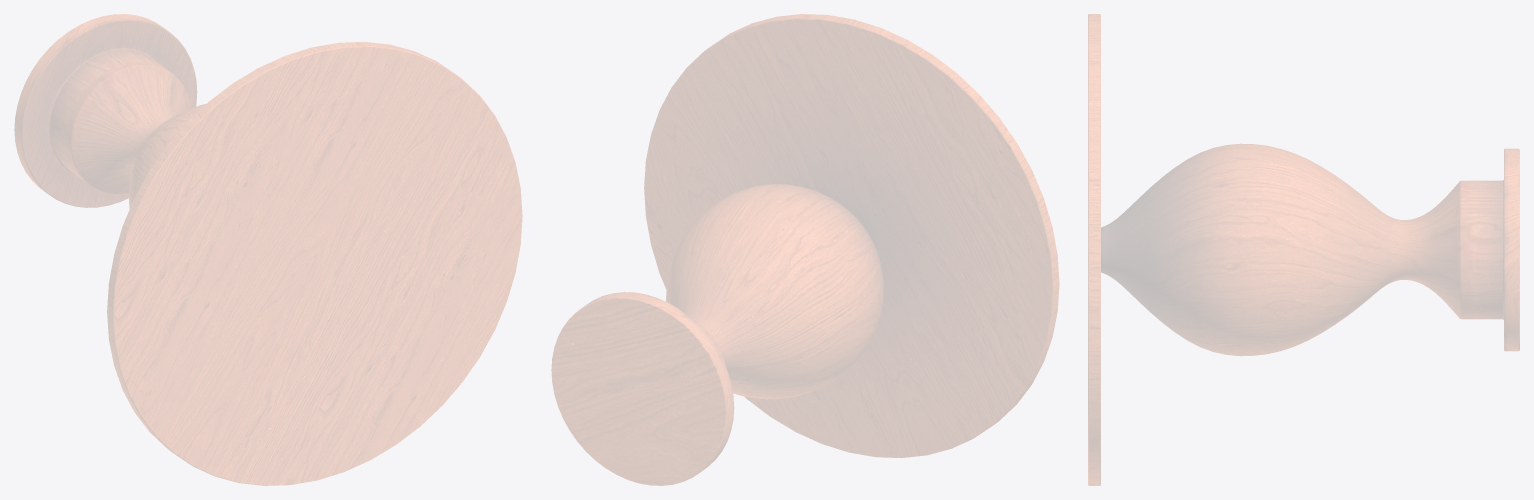
File: 10248_Side_Table_v1_L3.123c0ff7e568-b05c-4b96-b5f3-0dbd5bce166b.glb
3 views of the same model, side by side, from view 1: azimuth 30°, elevation 25°; view 2: azimuth 150°, elevation 25°; view 3: azimuth 270°, elevation 25° (orthographic).
Visible parts, largest first — view 1: Node1; view 2: Node1; view 3: Node1.
Part boxes in pixels (bbox=[...]): Node1: bbox=[14, 14, 522, 485]; Node1: bbox=[551, 14, 1059, 485]; Node1: bbox=[1088, 14, 1519, 485].
Size of the model in its own units: 75.69 by 75.69 by 69.19.
1 material, 1 textured.
